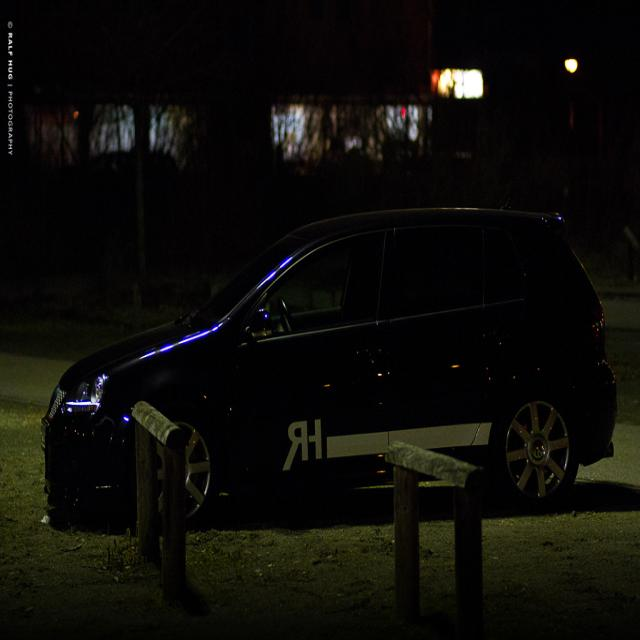car: (39, 186, 610, 613)
